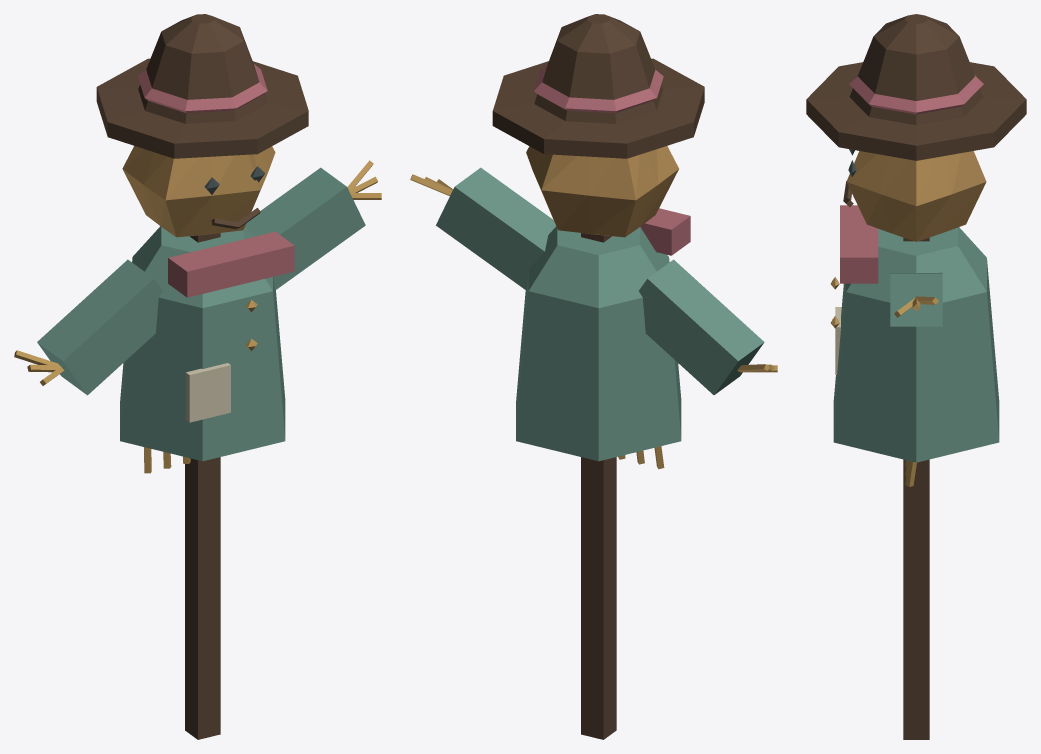
The model's file is decor_scarecrow.glb.
The picture shows the model from 3 angles, left to right: view 1: azimuth 30°, elevation 25°; view 2: azimuth 150°, elevation 25°; view 3: azimuth 270°, elevation 25°; orthographic projection.
Parts seen in each view (by area): view 1: geometry; view 2: geometry; view 3: geometry.
Boxes of the visible parts, left/top/right/bottom form: geometry: left=14, top=14, right=381, bottom=739; geometry: left=410, top=14, right=777, bottom=739; geometry: left=806, top=14, right=1026, bottom=739.
Size of the model in its own units: 0.8665 by 1.65 by 0.46.
